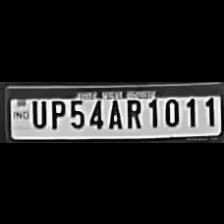0: (160, 95, 180, 127)
1: (182, 94, 200, 128), (200, 93, 218, 126), (145, 94, 161, 128)
4: (86, 96, 104, 128)
5: (67, 96, 85, 128)
A: (104, 97, 122, 129)
P: (47, 96, 65, 128)
R: (123, 96, 143, 128)
U: (28, 97, 46, 129)
